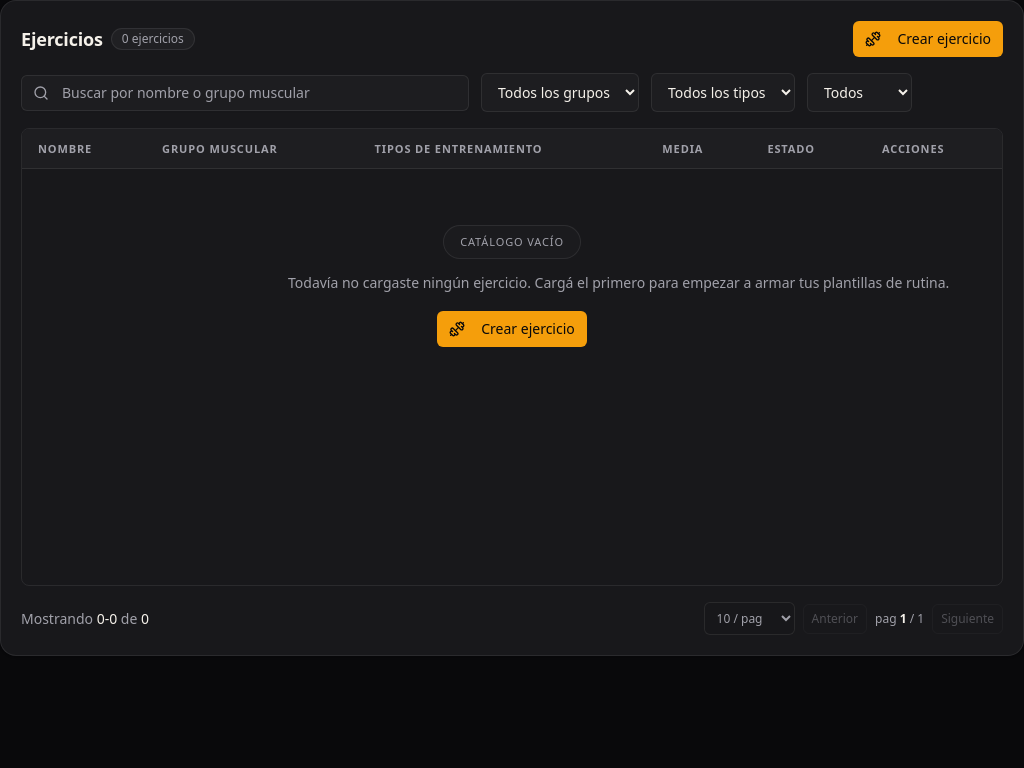
it: vista de Ejercicios › mantiene el mensaje de sin resultados y no ofrece crear cuando la búsqueda no matchea
The width and height of the screenshot is (1024, 768).
Check: the text "Catálogo vacío" is shown, box [443,225,581,259]
Type "inexistente" into the field named "Buscar ejercicios" at point(245, 92), box [21,74,469,110]
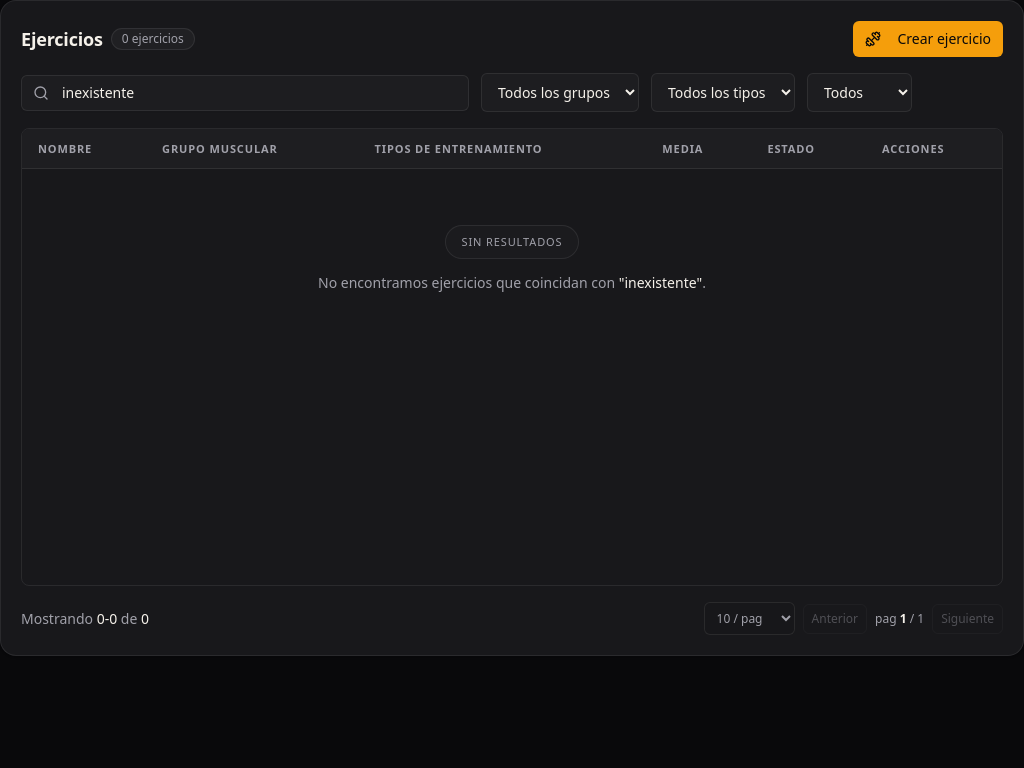
Check: the text "Sin resultados" is shown, box [444,225,579,259]
Check: the text "No encontramos ejercicios que coincidan con \"inexistente\"." is shown, box [318,271,706,295]
Check: the text "\"inexistente\"" is shown, box [619,273,702,292]
